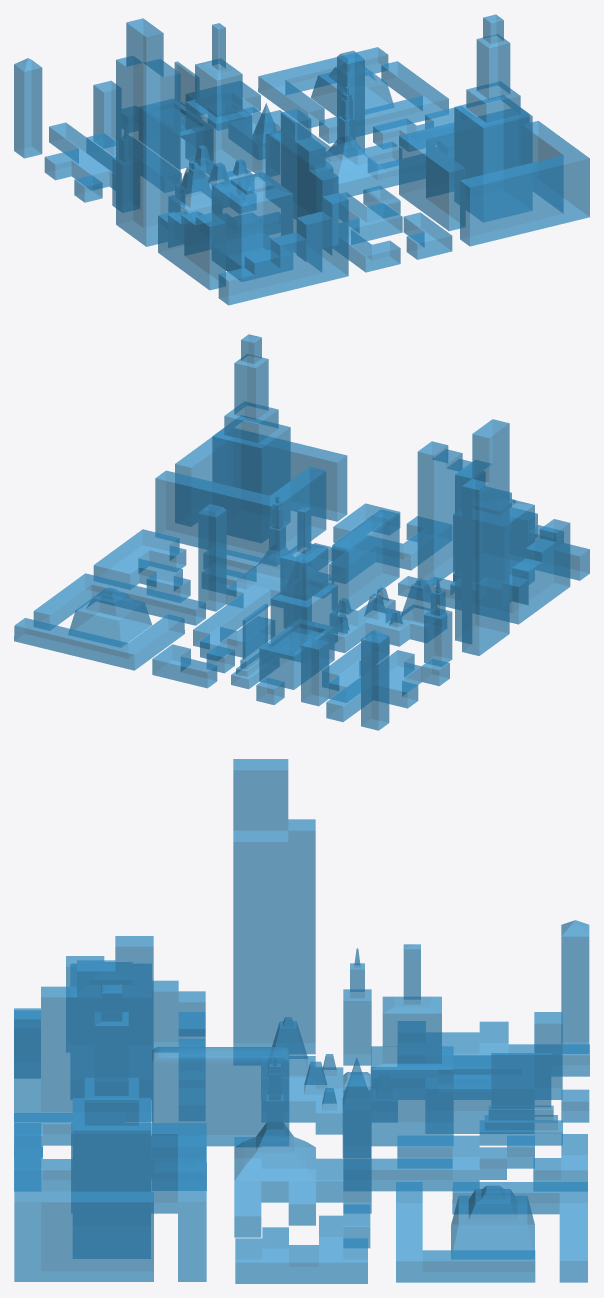
Rendered from building.gltf.
The picture shows the model from 3 angles, top to bottom: view 1: azimuth 30°, elevation 25°; view 2: azimuth 150°, elevation 25°; view 3: azimuth 270°, elevation 25°; orthographic projection. The views are drawn at different scales.
Parts seen in each view (by area): view 1: Cube.006, Cube.024, Cube.030, Cube.001, Cube.005, Cube.010, Cube.026, Cube.015, Cube.027, Cube.004, Cube.011, Cube.008 (+16 smaller); view 2: Cube.006, Cube.024, Cube.001, Cube.030, Cube.005, Cube.010, Cube.027, Cube.004, Cube.026, Cube.011, Cube.003, Cube.015 (+16 smaller); view 3: Cube.006, Cube.024, Cube.030, Cube.010, Cube.001, Cube.011, Cube.005, Cube.026, Cube.027, Cube.003, Cube.025, Cube.020 (+15 smaller).
Part boxes in pixels (x1,y1,x2,y2): Cube.006: [399, 109, 589, 246]; Cube.024: [116, 18, 180, 246]; Cube.030: [218, 109, 348, 305]; Cube.001: [454, 14, 532, 221]; Cube.005: [258, 47, 448, 143]; Cube.010: [229, 87, 425, 197]; Cube.026: [185, 23, 252, 176]; Cube.015: [211, 172, 293, 271]; Cube.027: [86, 133, 255, 216]; Cube.004: [158, 211, 280, 290]; Cube.011: [265, 130, 333, 218]; Cube.008: [333, 192, 402, 272]; Cube.006: [155, 428, 347, 565]; Cube.024: [455, 419, 509, 655]; Cube.001: [212, 334, 290, 542]; Cube.030: [417, 441, 589, 585]; Cube.005: [14, 573, 205, 670]; Cube.010: [193, 495, 333, 660]; Cube.027: [322, 578, 446, 702]; Cube.004: [398, 519, 570, 624]; Cube.026: [270, 506, 337, 662]; Cube.011: [331, 509, 399, 613]; Cube.003: [93, 529, 190, 602]; Cube.015: [453, 493, 534, 581]; Cube.006: [14, 1123, 206, 1281]; Cube.024: [233, 759, 315, 1064]; Cube.030: [14, 936, 153, 1122]; Cube.010: [234, 1055, 506, 1237]; Cube.001: [72, 984, 150, 1258]; Cube.011: [152, 1047, 289, 1146]; Cube.005: [396, 1182, 587, 1282]; Cube.026: [371, 944, 453, 1146]; Cube.027: [261, 1017, 491, 1134]; Cube.003: [235, 1204, 370, 1283]; Cube.025: [425, 1066, 534, 1133]; Cube.020: [479, 1053, 562, 1145].
Bounding box in the file's own units: 21 × 11.5 × 21.15.
